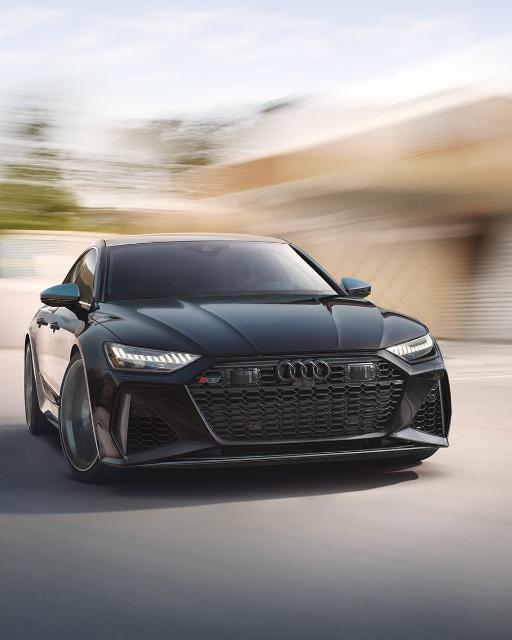audi: (24, 232, 454, 482)
